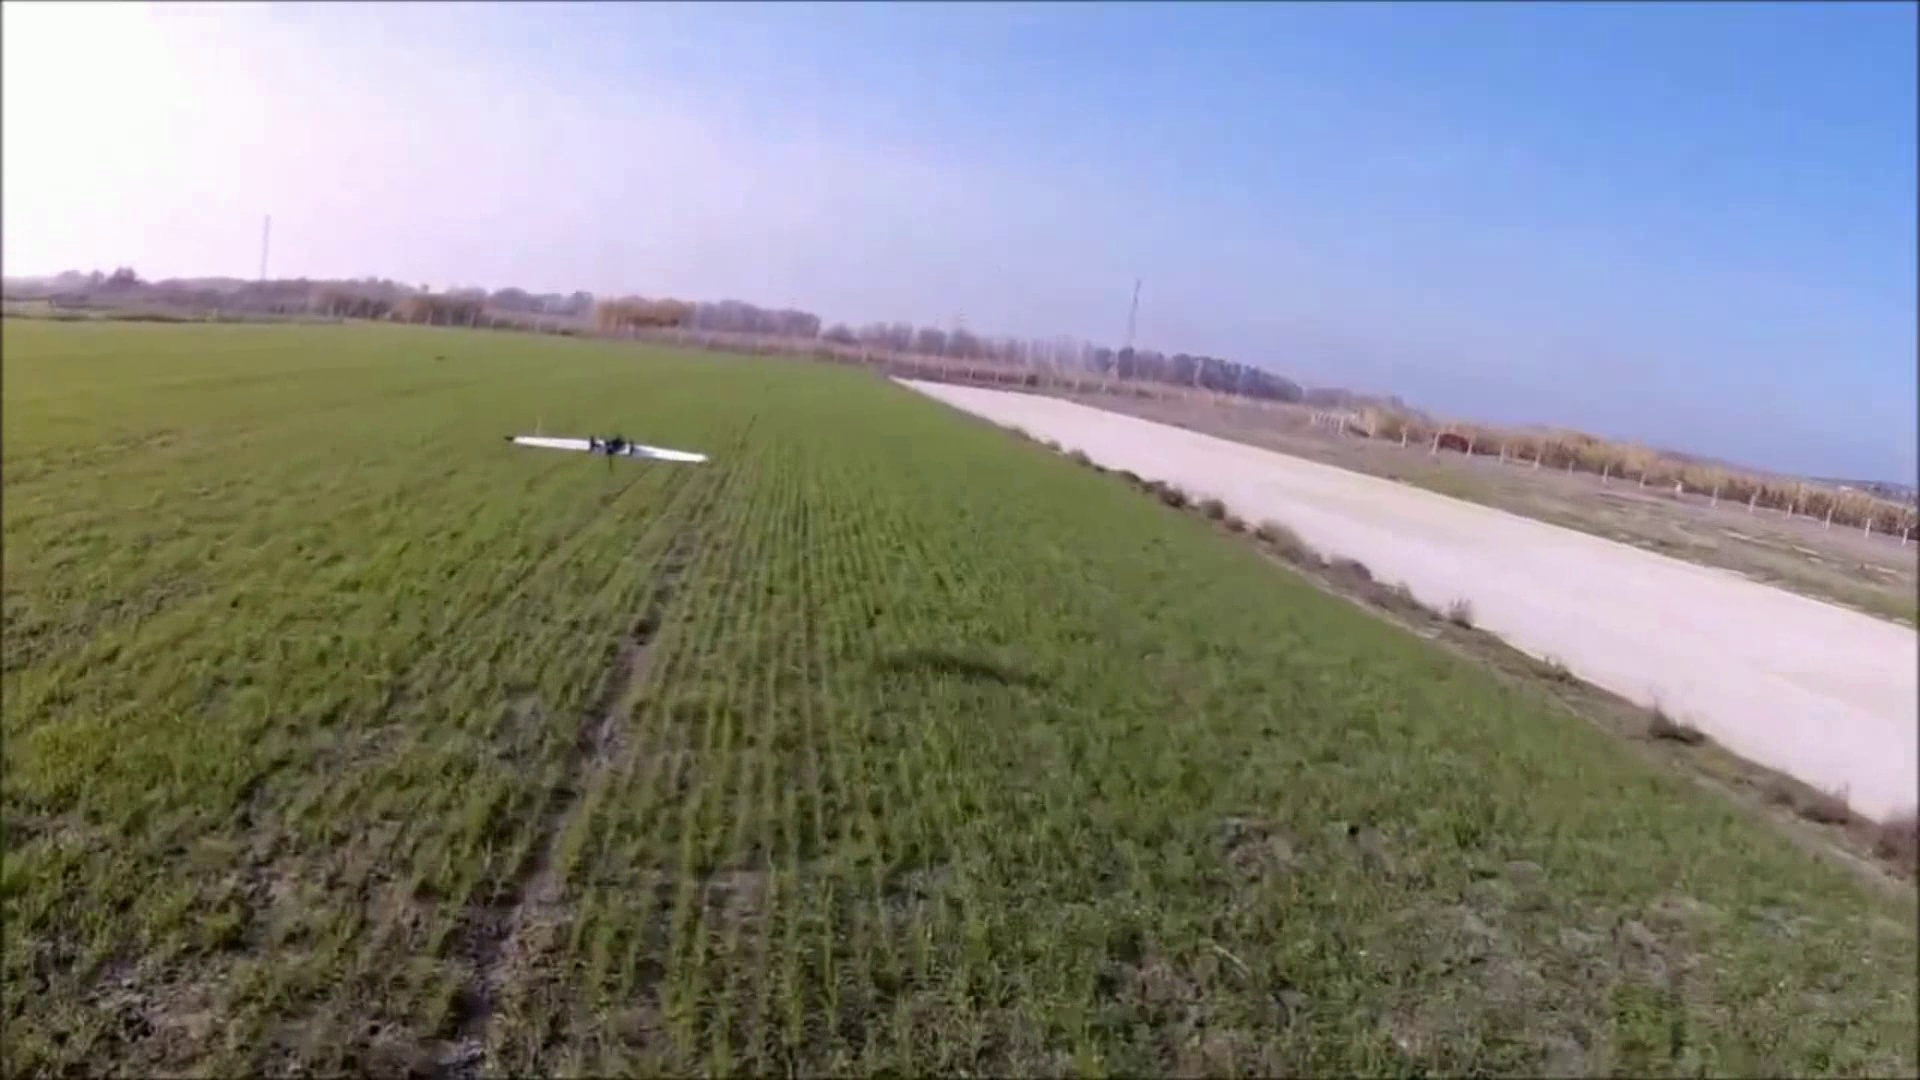airplane: (506, 430, 709, 468)
